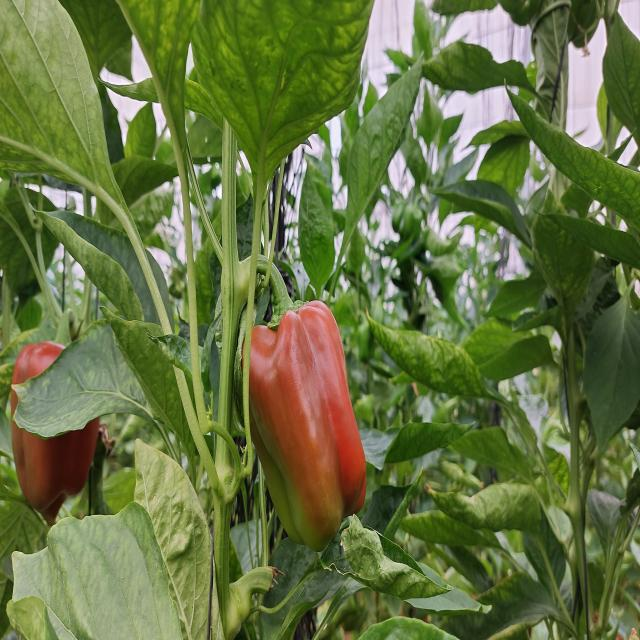BrownishRed--Can-be-Harvested: (233, 314, 388, 535), (8, 338, 112, 517)
